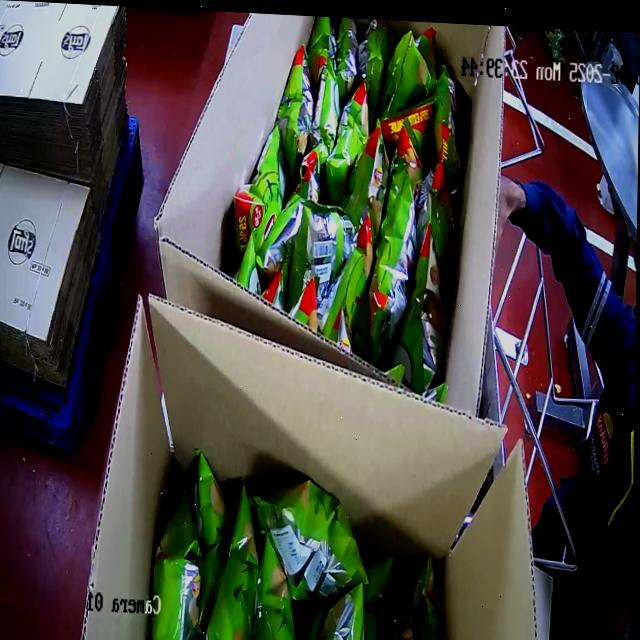YOGURT_HERB: (250, 13, 452, 382), (153, 436, 470, 640)
